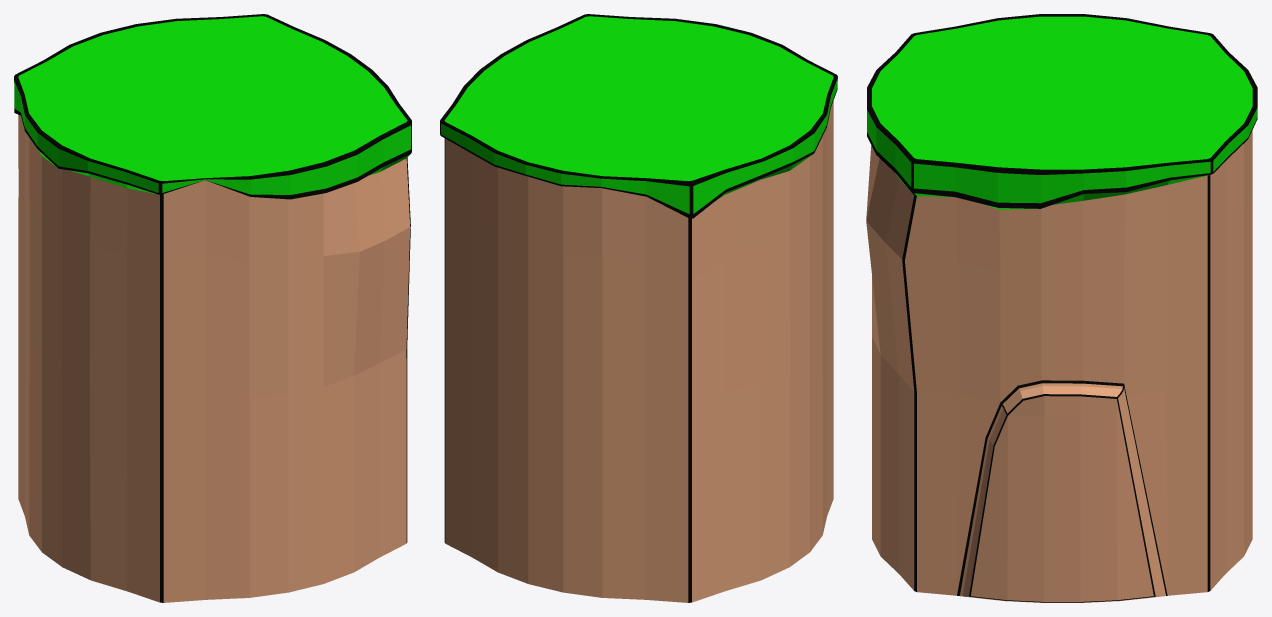
File: CardboardPlatform25.fbx
3 views of the same model, side by side, from view 1: azimuth 30°, elevation 25°; view 2: azimuth 150°, elevation 25°; view 3: azimuth 270°, elevation 25° (orthographic). The views are drawn at different scales.
Parts seen in each view (by area): view 1: Cube.039; view 2: Cube.039; view 3: Cube.039.
Boxes of the visible parts, x1=… form: Cube.039: x1=14, y1=14, x2=411, y2=602; Cube.039: x1=440, y1=14, x2=837, y2=602; Cube.039: x1=866, y1=14, x2=1257, y2=602.
Bounding box in the file's own units: 840 × 1065 × 872.
